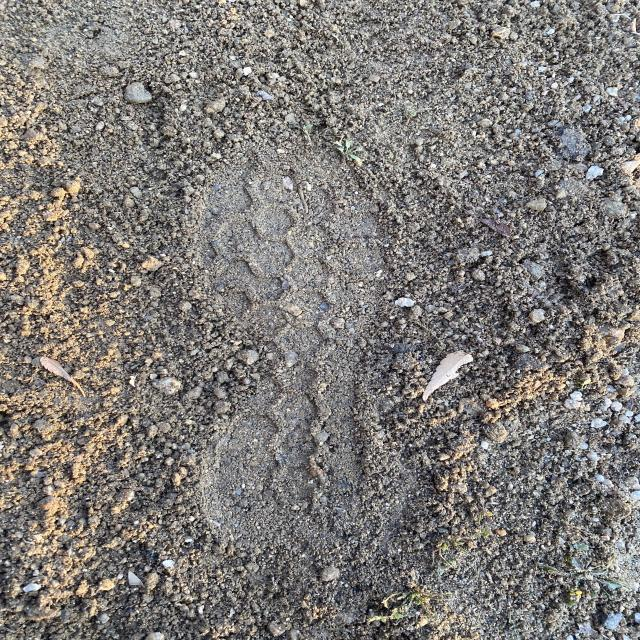human_foot_print: (86, 60, 479, 606)
